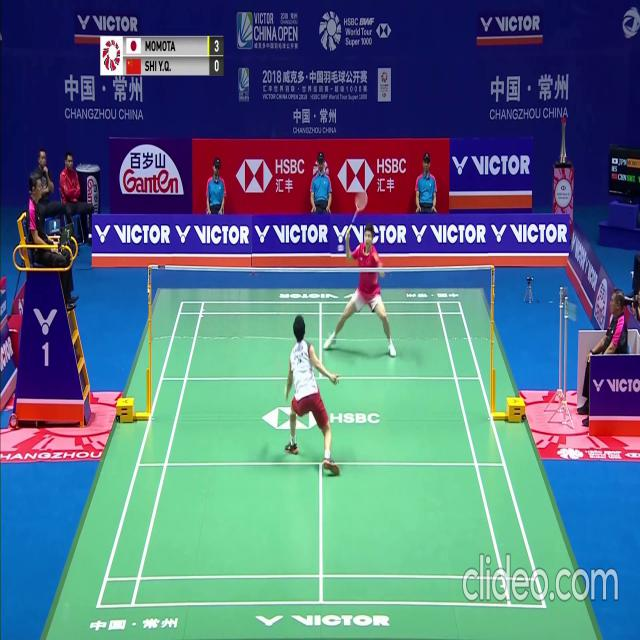Shuttlecock: (339, 243, 344, 251)
